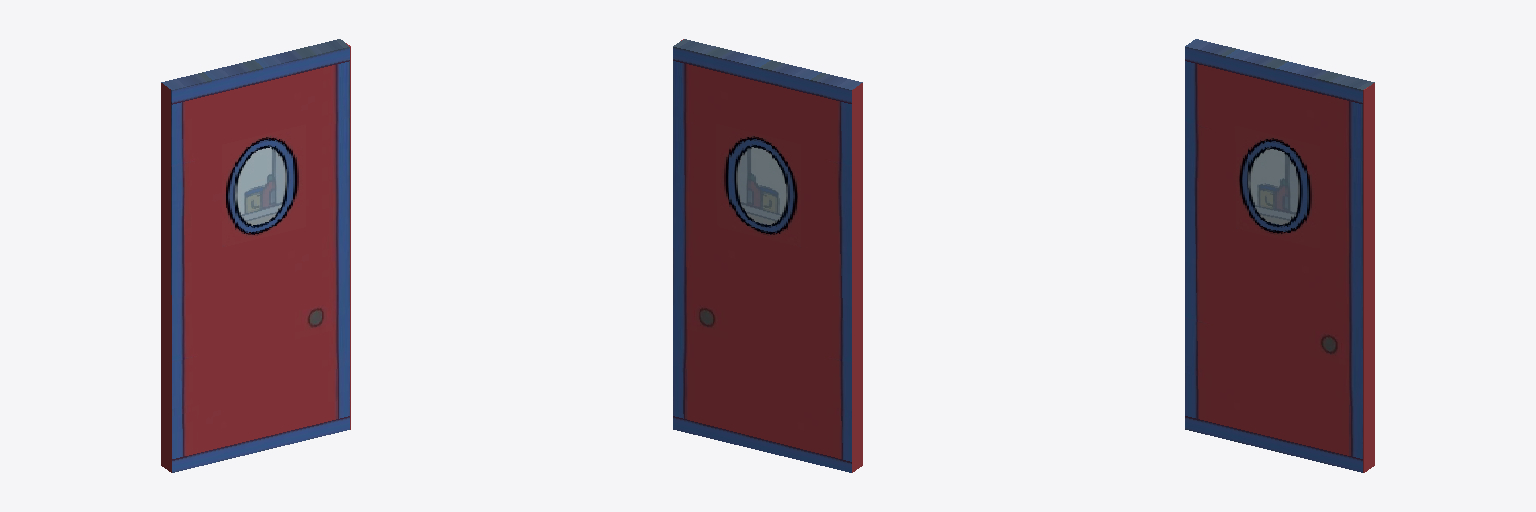
3 views of the same model, side by side, from view 1: azimuth 30°, elevation 25°; view 2: azimuth 150°, elevation 25°; view 3: azimuth 330°, elevation 25° (orthographic).
Parts seen in each view (by area): view 1: puertacocina:pCube1; view 2: puertacocina:pCube1; view 3: puertacocina:pCube1.
Boxes of the visible parts, x1,y1,x2,y2 form: puertacocina:pCube1: [161, 39, 350, 472]; puertacocina:pCube1: [673, 39, 862, 472]; puertacocina:pCube1: [1185, 39, 1374, 472].
Bounding box in the file's own units: 2.17 × 4.43 × 0.2217.
Materials: 1 (1 with a texture image).